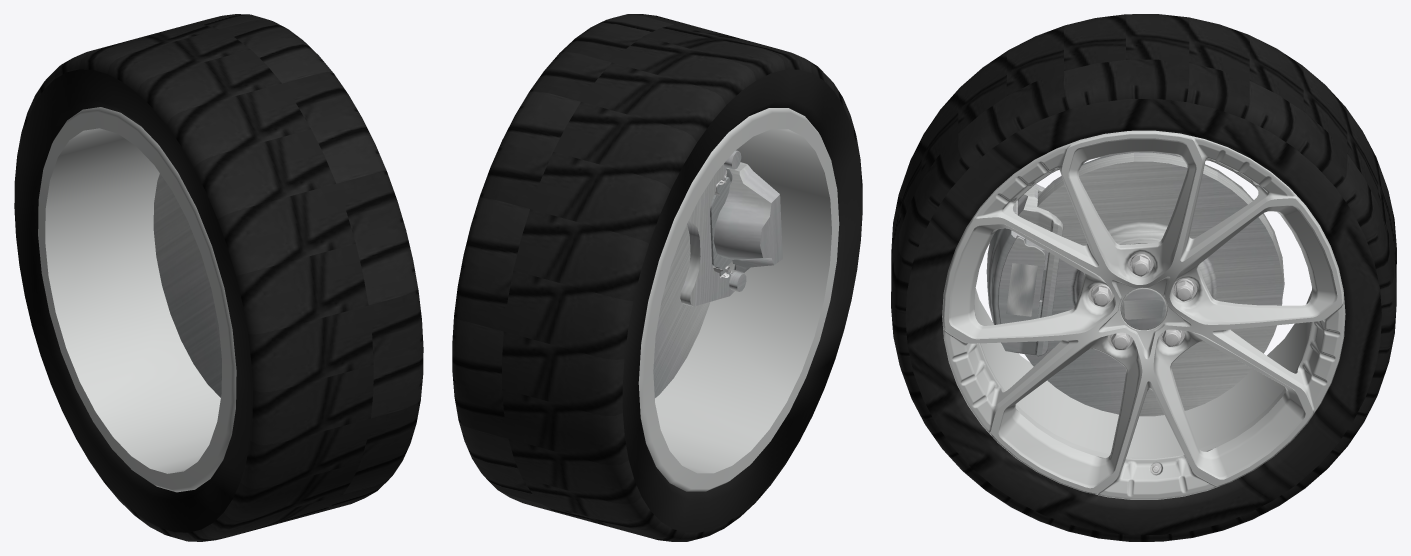
File: llanta.obj
3 renders of one model, left to right at view 1: azimuth 30°, elevation 25°; view 2: azimuth 150°, elevation 25°; view 3: azimuth 270°, elevation 25°, orthographic.
Parts seen in each view (by area): view 1: Caucho_delantera_izq, Llanta_delantera_izq; view 2: Caucho_delantera_izq, Llanta_delantera_izq; view 3: Llanta_delantera_izq, Caucho_delantera_izq.
Boxes of the visible parts, x1,y1,x2,y2 form: Caucho_delantera_izq: (14, 14, 423, 541); Llanta_delantera_izq: (38, 107, 236, 492); Caucho_delantera_izq: (452, 14, 862, 541); Llanta_delantera_izq: (638, 108, 839, 491); Llanta_delantera_izq: (942, 130, 1345, 499); Caucho_delantera_izq: (891, 14, 1396, 541).
Bounding box in the file's own units: 1.2 × 2.91 × 2.9.
2 materials, 2 textured.
